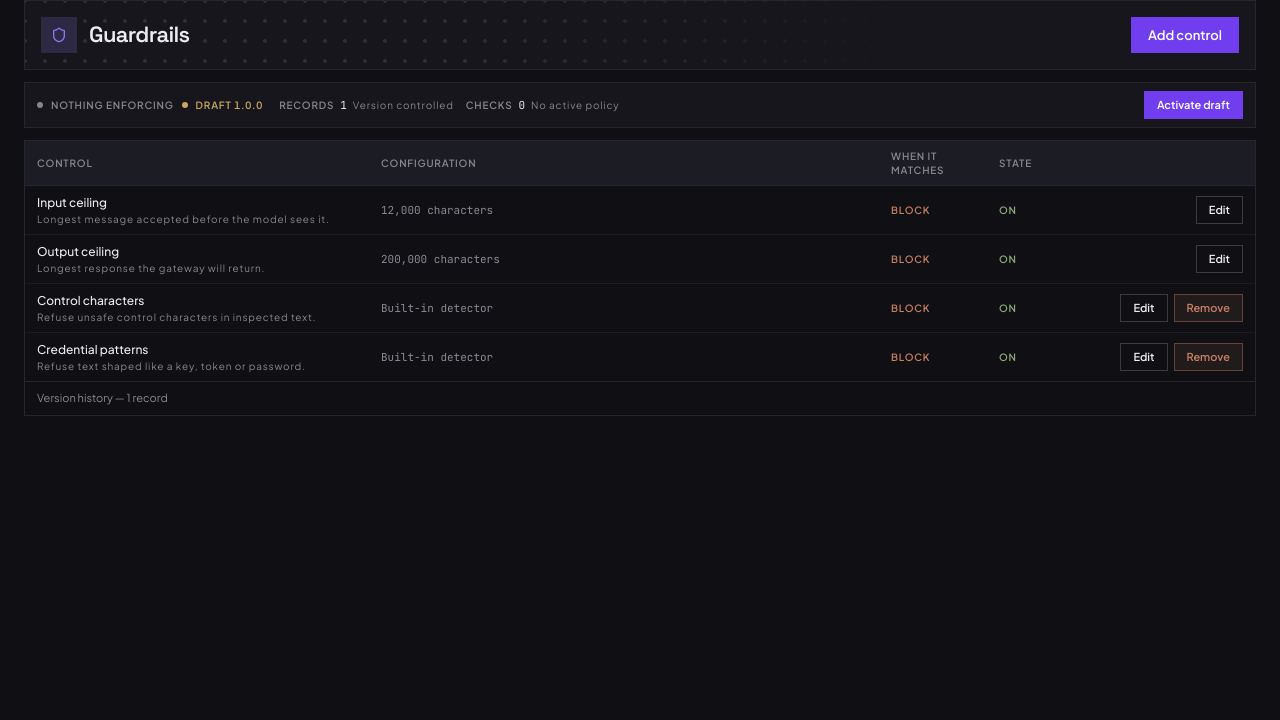
it: a policy another operator moved first › activates on the retry after a conflict, instead of failing identically forever
Click the button "Activate draft" at (1193, 105), box [1144,91,1243,119]
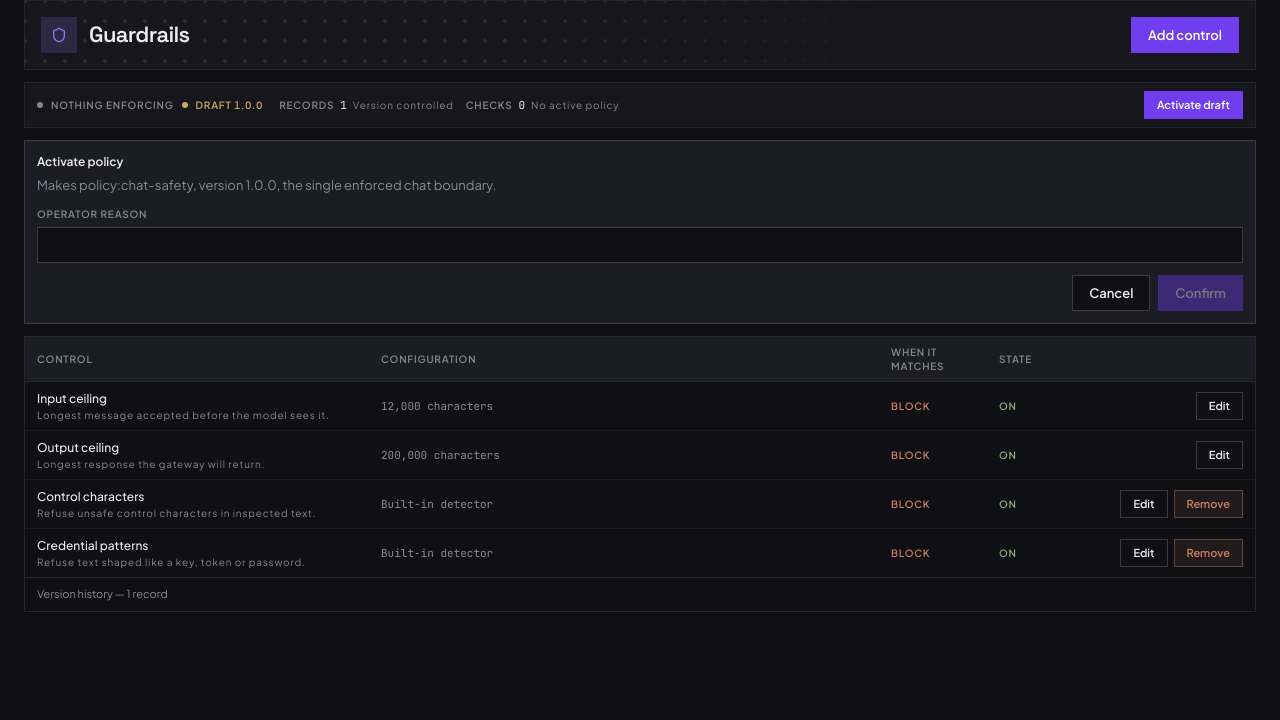
Type "Safety evidence promoted for v1.0.0." into the field labelled "Operator reason" at (640, 245), box [37,227,1243,263]
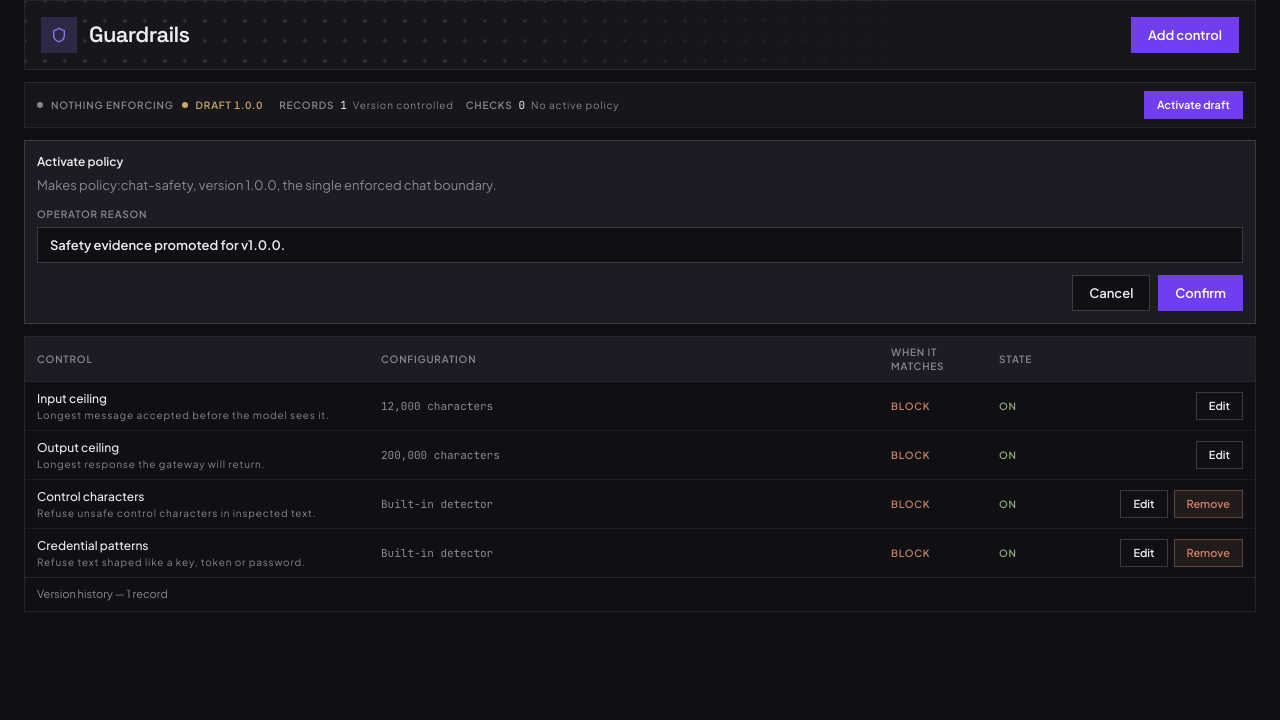
Click the button "Confirm" at (1201, 293), box [1158,275,1243,311]
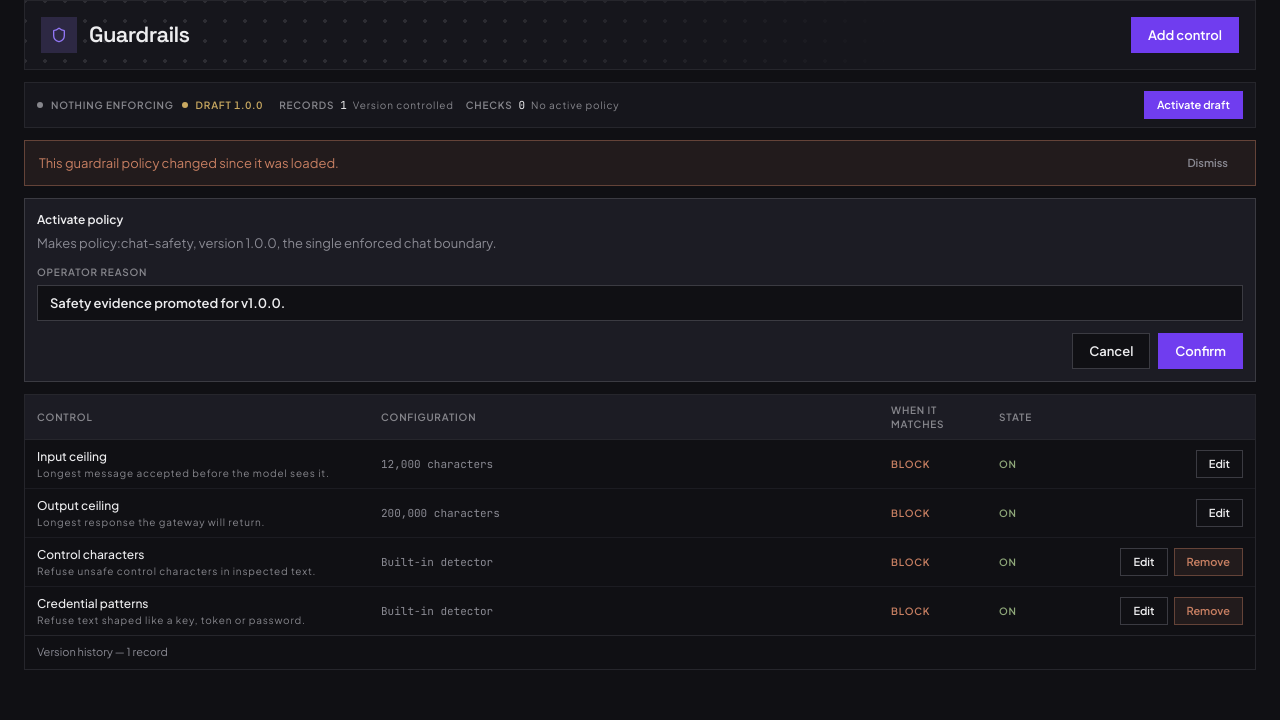
Result: the text "This guardrail policy changed since it was loaded." is shown at [39,153,339,173]
Click the button "Confirm" at (1201, 351), box [1158,333,1243,369]
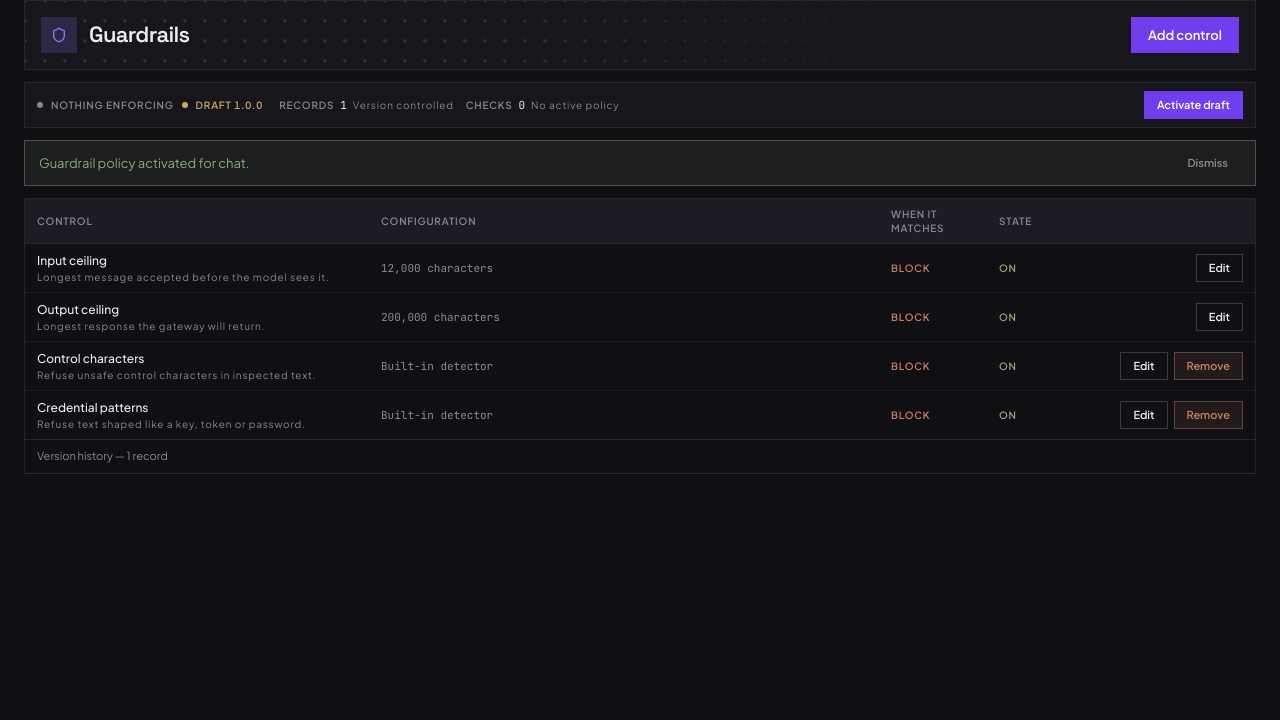
Result: the text "Guardrail policy activated for chat." is shown at [39,153,250,173]
